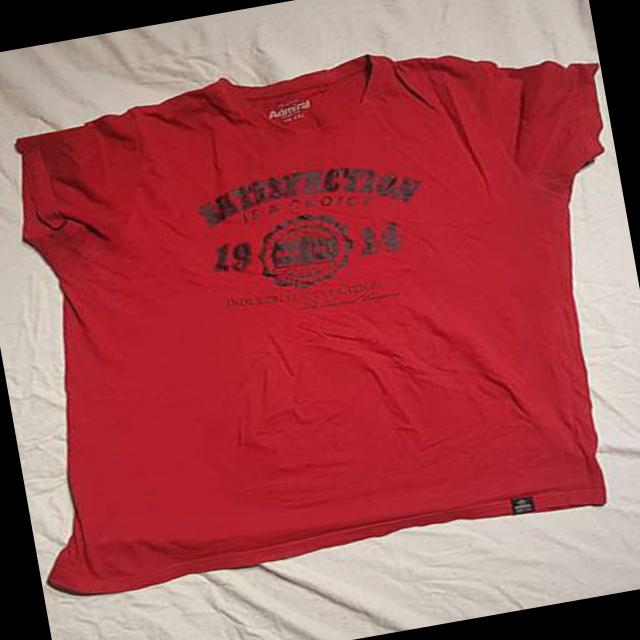T_SHIRT: (0, 9, 640, 614)
